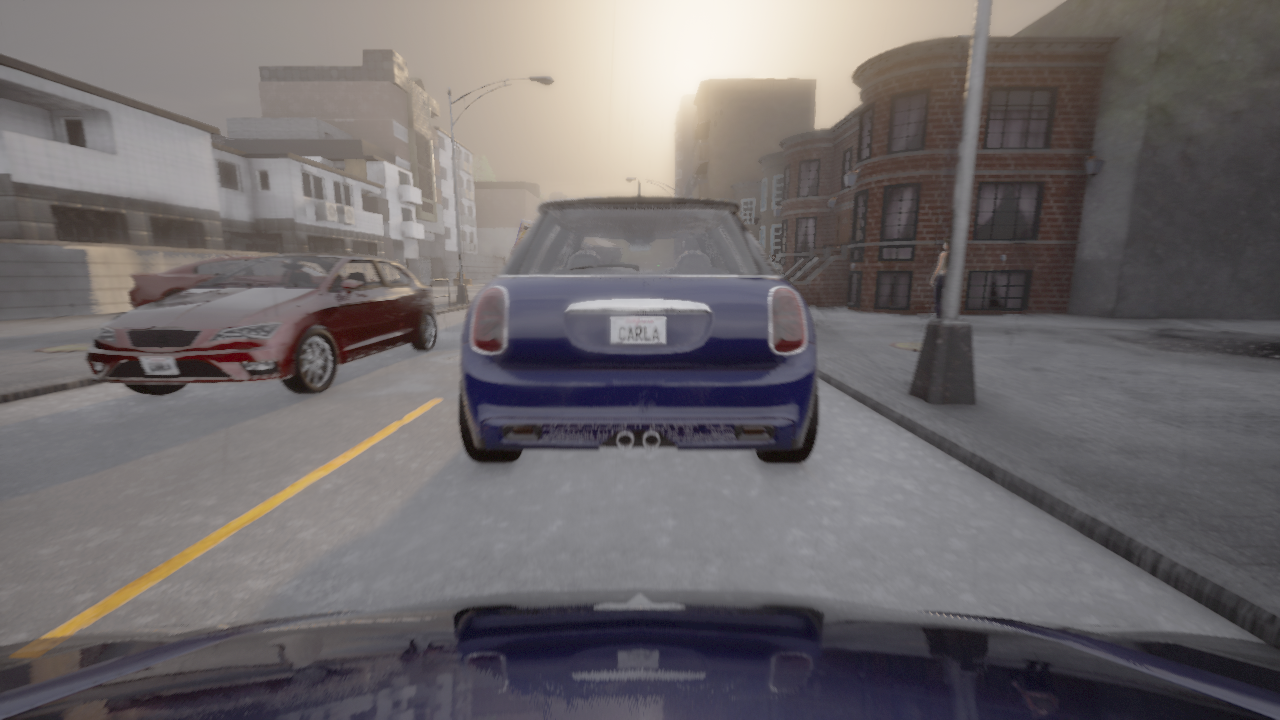cyclist: (0, 588, 1279, 719), (458, 180, 819, 462), (85, 252, 438, 395), (129, 254, 261, 308), (511, 218, 534, 253)
pedestrian: (930, 236, 949, 319), (771, 253, 784, 279)
